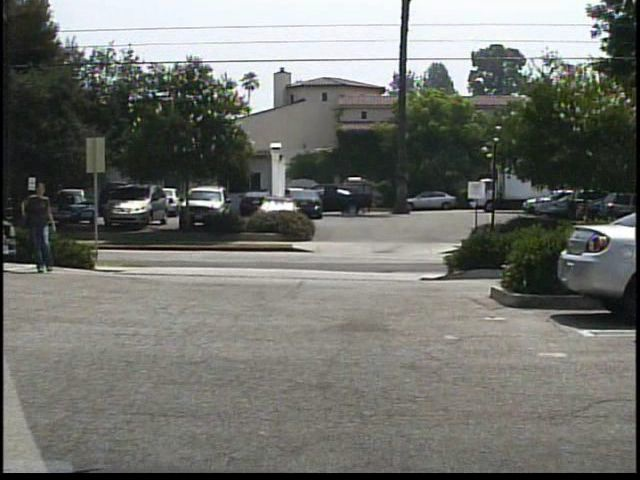person: (21, 183, 62, 275)
